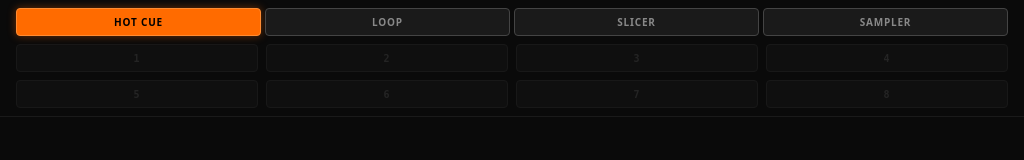
Test: PadGrid mode switching › switching to LOOP mode renders the loop pads instead
Click the button with aria-label "loop pad mode for deck a": (388, 22) [265, 8, 510, 36]
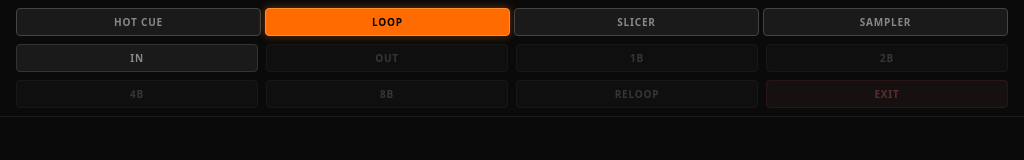
Check: the button with aria-label "set loop in on deck a" is shown, box [16, 44, 258, 72]
